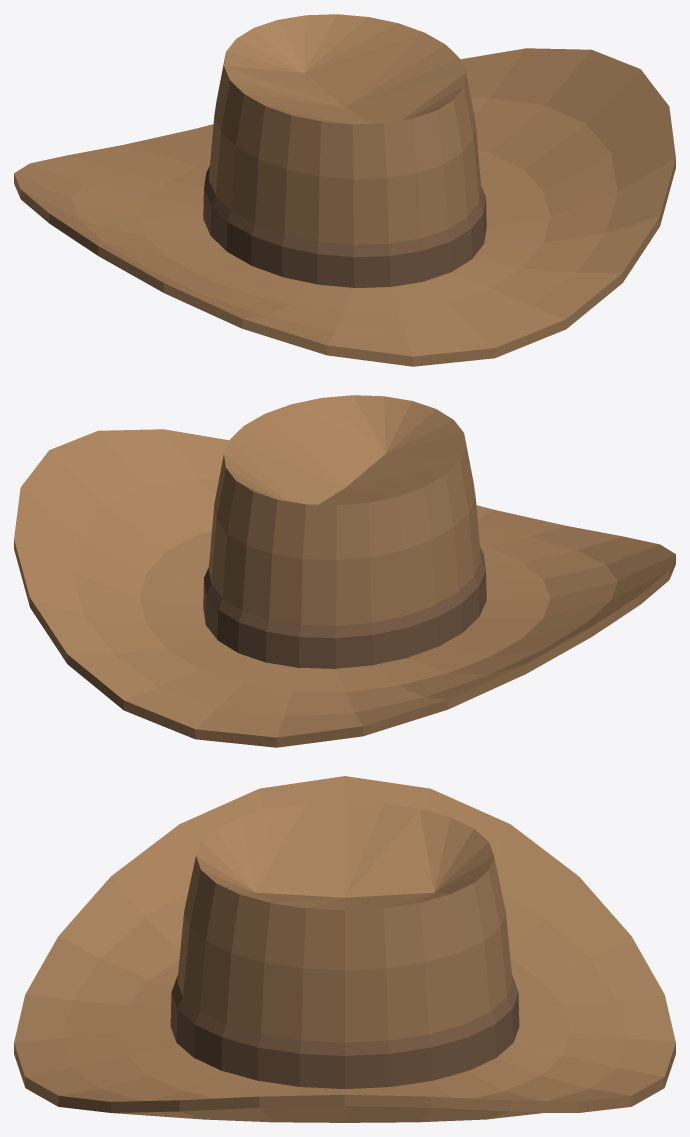
The model's file is SM_Cowboy_Hat.glb.
3 views of the same model, one above another, from view 1: azimuth 30°, elevation 25°; view 2: azimuth 150°, elevation 25°; view 3: azimuth 270°, elevation 25° (orthographic). The views are drawn at different scales.
Visible parts, largest first — view 1: SM_Cowboy_Hat; view 2: SM_Cowboy_Hat; view 3: SM_Cowboy_Hat.
Boxes of the visible parts, left/top/right/bottom form: SM_Cowboy_Hat: left=14, top=14, right=675, bottom=366; SM_Cowboy_Hat: left=14, top=395, right=675, bottom=747; SM_Cowboy_Hat: left=14, top=776, right=675, bottom=1122.
Bounding box in the file's own units: 0.49 × 0.142 × 0.43.
